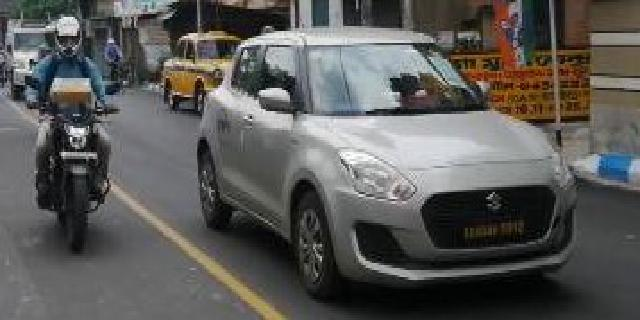Car: (192, 27, 581, 303), (156, 30, 235, 114)
Motorbike: (22, 15, 116, 255)
